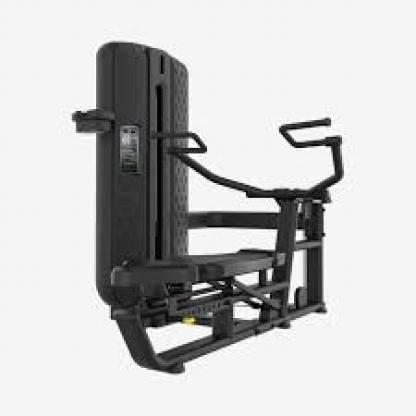Chest Press machine: (60, 33, 350, 375)
